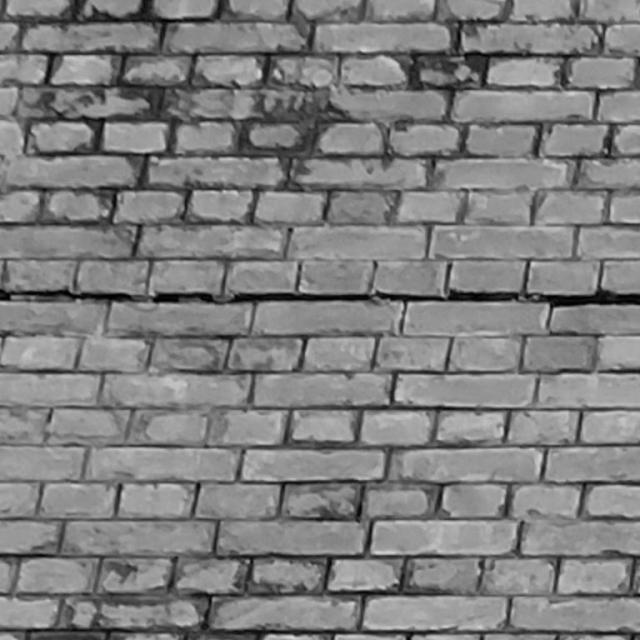crack: (1, 287, 640, 308)
